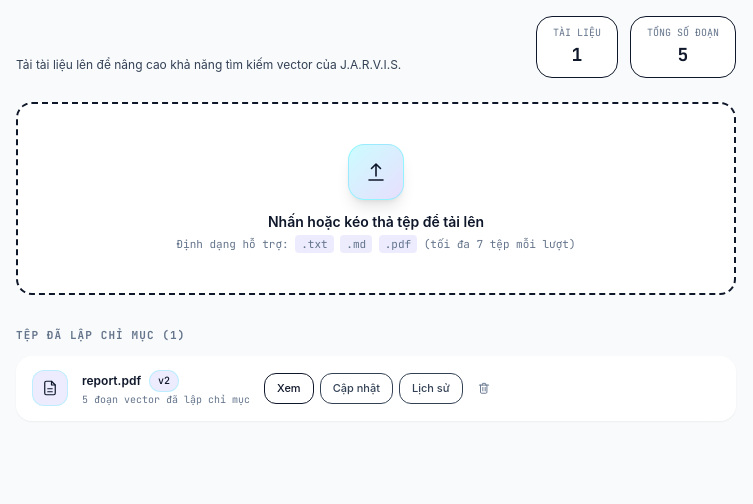
Scenario: DocumentsView › shows the version history section with translated labels in Vietnamese
Click the button "Lịch sử": point(431, 388) [399, 373, 463, 404]
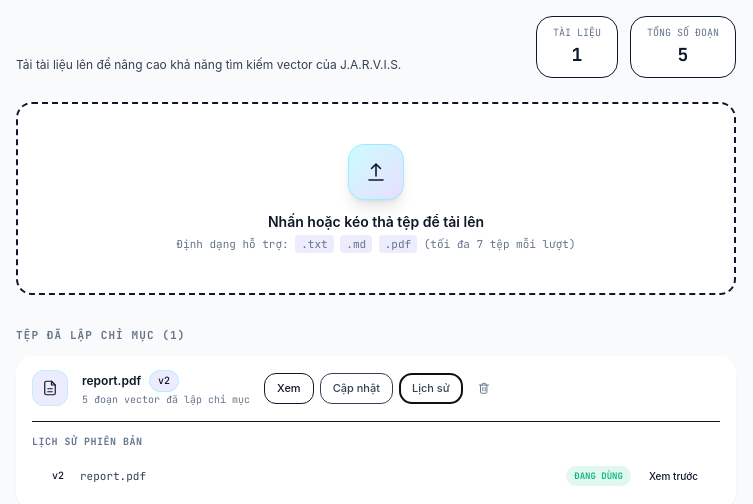
Expected: the text "Lịch sử phiên bản" is shown, [32, 435, 142, 448]
Expected: the text "Đang dùng" is shown, [566, 466, 631, 486]
Expected: the button "Xem trước" is shown, [639, 464, 708, 488]
